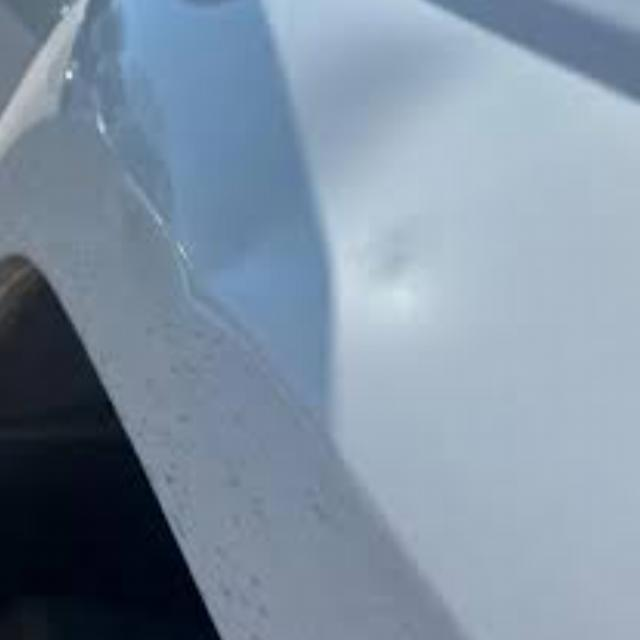dents: (126, 204, 316, 346), (352, 234, 451, 348)
